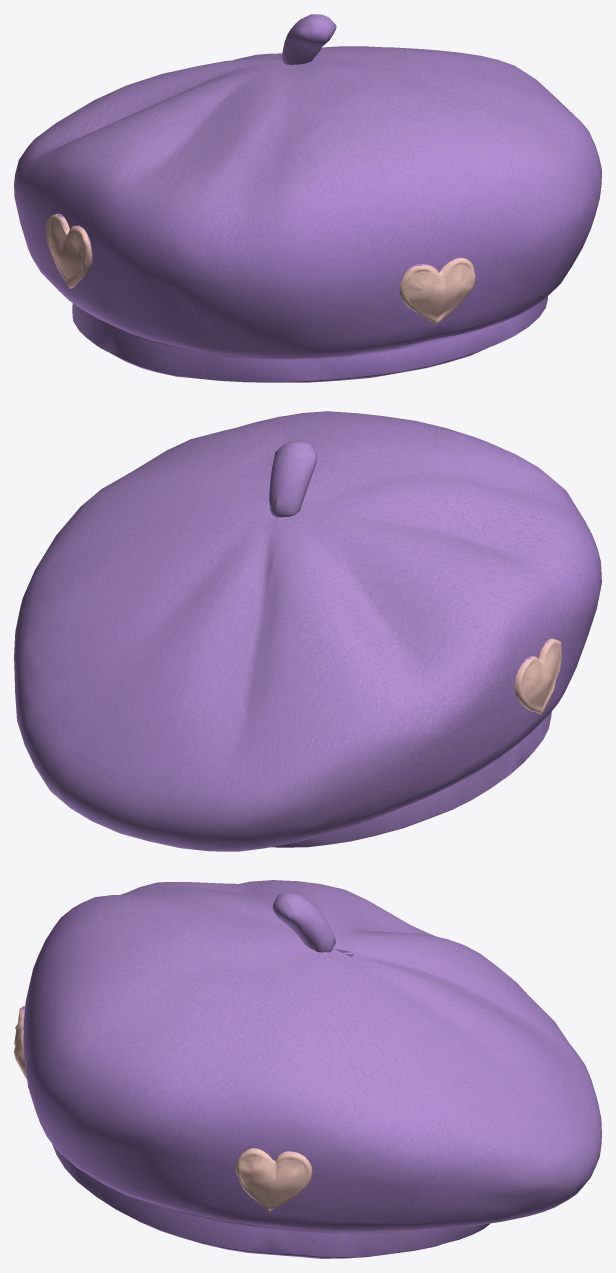
Rendered from beret_chic_meshy.glb.
The picture shows the model from 3 angles, top to bottom: view 1: azimuth 30°, elevation 25°; view 2: azimuth 150°, elevation 25°; view 3: azimuth 270°, elevation 25°; orthographic projection. The views are drawn at different scales.
Bounding box in the file's own units: 0.877 × 0.5288 × 0.9536.
Materials: 1 (1 with a texture image).
